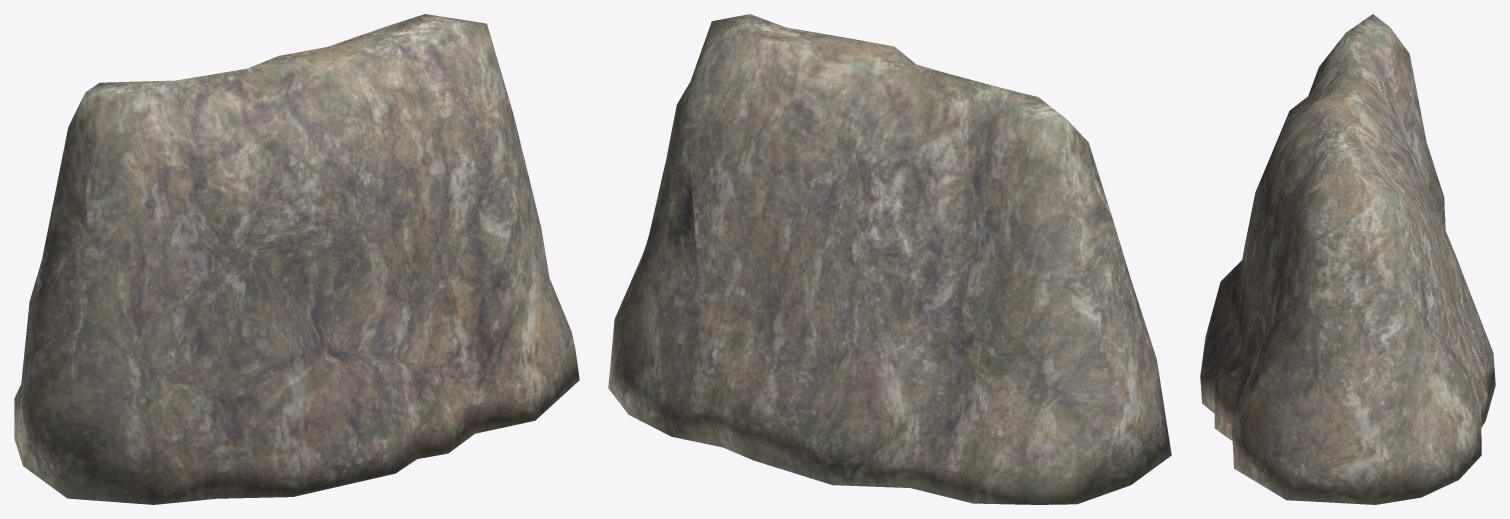
The model's file is land_cliff02a.fbx.
3 views of the same model, side by side, from view 1: azimuth 30°, elevation 25°; view 2: azimuth 150°, elevation 25°; view 3: azimuth 270°, elevation 25° (orthographic). The views are drawn at different scales.
Parts seen in each view (by area): view 1: land_cliff02a; view 2: land_cliff02a; view 3: land_cliff02a.
Boxes of the visible parts, x1=… form: land_cliff02a: x1=14, y1=14, x2=579, y2=504; land_cliff02a: x1=608, y1=14, x2=1171, y2=504; land_cliff02a: x1=1200, y1=14, x2=1495, y2=504.
Bounding box in the file's own units: 15.46 × 10.19 × 8.91.
